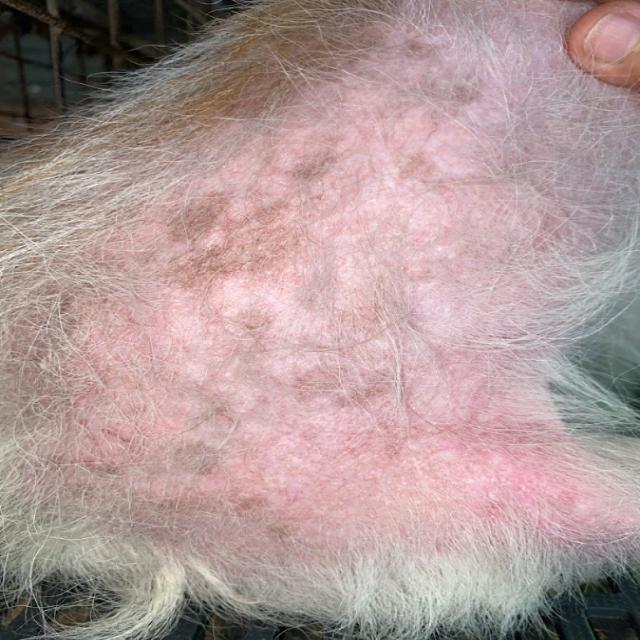demodicosis: (92, 83, 554, 593)
